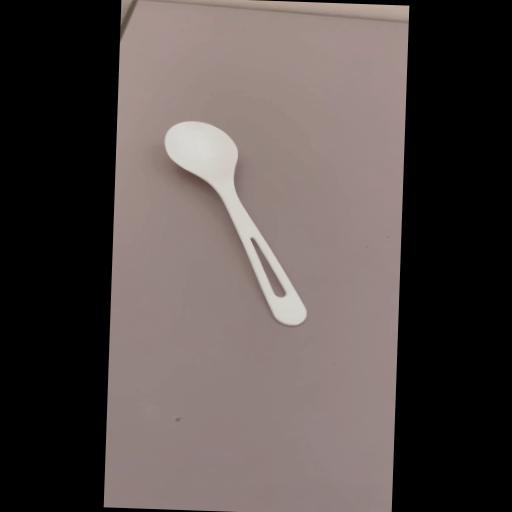utensil: (154, 114, 320, 331)
